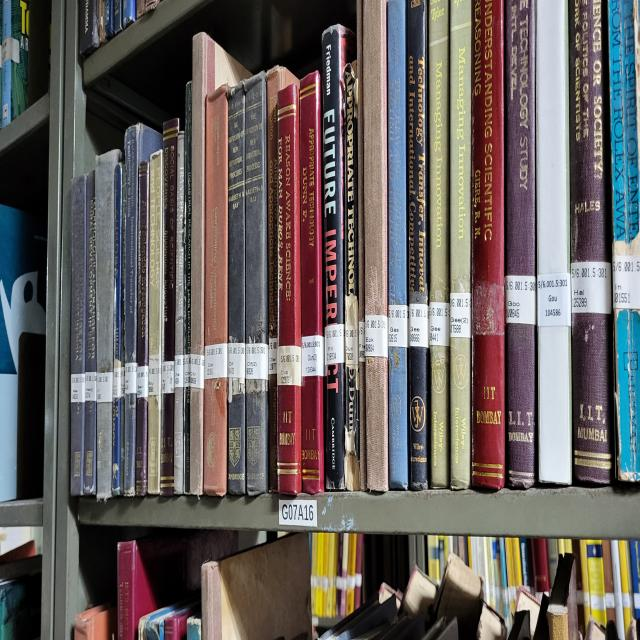Book: (569, 0, 615, 484), (536, 0, 572, 484), (321, 24, 355, 490), (505, 0, 536, 487), (609, 0, 640, 482), (266, 65, 299, 492), (190, 32, 215, 495), (388, 0, 409, 490), (408, 0, 429, 490), (450, 0, 471, 490), (204, 84, 229, 495), (429, 0, 450, 487), (245, 73, 269, 495), (300, 70, 324, 492), (278, 81, 301, 495), (95, 149, 122, 501), (362, 0, 388, 319), (160, 119, 180, 495), (228, 84, 246, 495), (344, 65, 360, 490), (124, 124, 141, 495), (70, 176, 86, 495), (148, 149, 162, 495), (111, 162, 125, 495), (82, 170, 96, 495), (136, 162, 149, 495), (365, 325, 389, 492), (174, 133, 185, 495), (184, 81, 192, 492)
Label: (571, 262, 611, 314), (538, 273, 571, 327), (505, 276, 536, 325), (612, 254, 640, 308), (301, 335, 324, 379), (365, 314, 388, 357), (429, 300, 450, 346), (450, 292, 471, 338), (278, 346, 301, 387), (409, 303, 429, 349), (389, 303, 409, 346), (204, 344, 228, 379), (246, 344, 269, 379), (325, 325, 344, 365), (345, 325, 359, 368), (228, 344, 245, 379), (96, 371, 112, 403), (190, 354, 204, 390), (161, 360, 174, 395), (136, 365, 149, 398), (71, 373, 85, 403), (125, 363, 138, 395), (269, 338, 278, 376), (174, 354, 184, 387), (112, 368, 122, 400), (85, 371, 96, 400), (359, 319, 365, 363), (184, 354, 190, 387)
